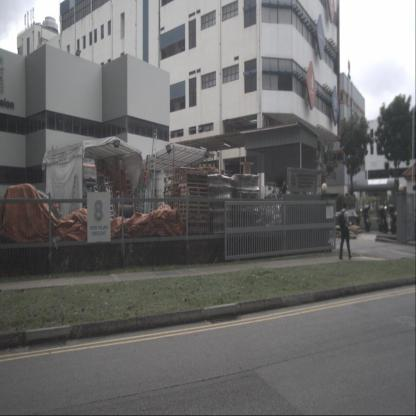human-pedestrian-adult: (338, 202, 353, 260)
vehicle-motorcycle: (388, 203, 402, 235), (360, 202, 371, 233), (378, 204, 389, 234)
